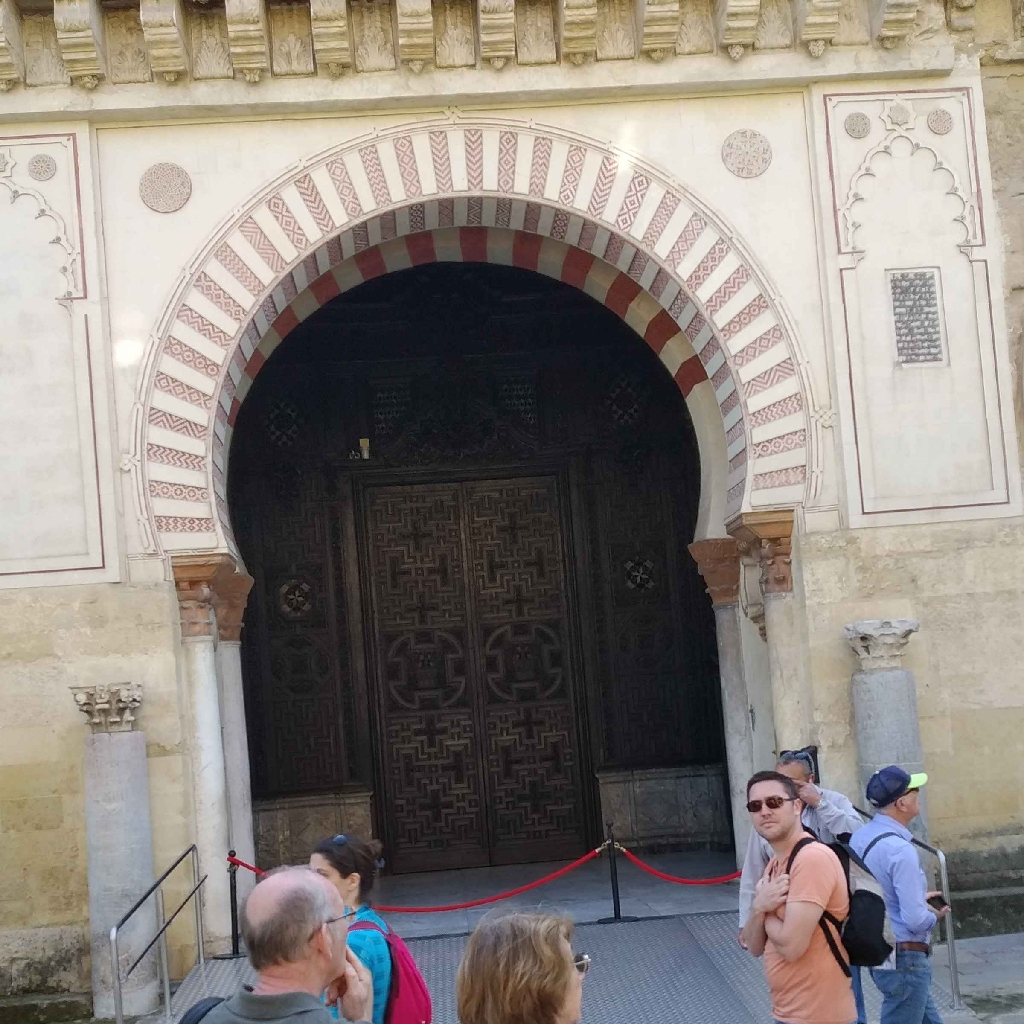arco-herradura: (158, 145, 786, 649)
